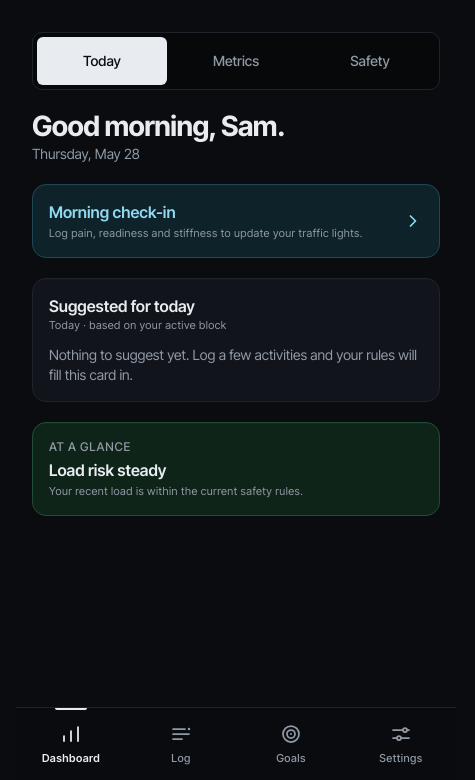
S2.4 — App stack flows use shared back header wired to navigateBack › edit-block-rules stack shows shared back header and pops on back
Click the button "Settings": (401,744) [346, 708, 456, 779]
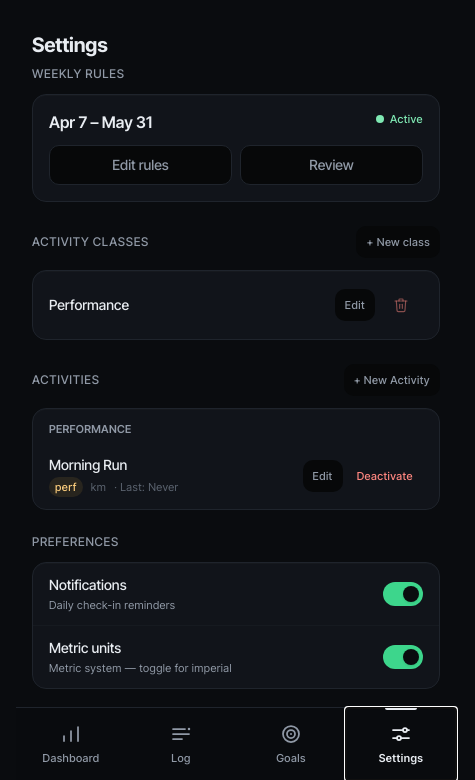
Click the button "Edit rules": (140,165) [49, 145, 232, 185]
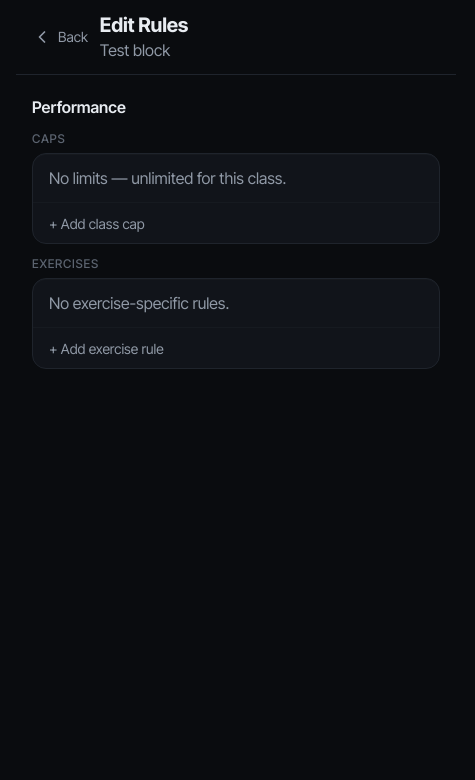
Click the button "Back": (60,37) [32, 23, 88, 51]
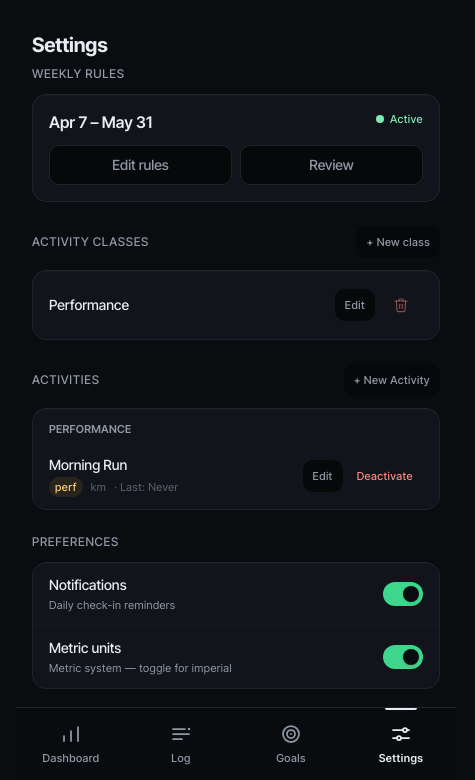
Check: the element with test id "stack-screen-overlay" is gone
Check: the navigation bar named "Primary" is shown, box [16, 707, 456, 779]
